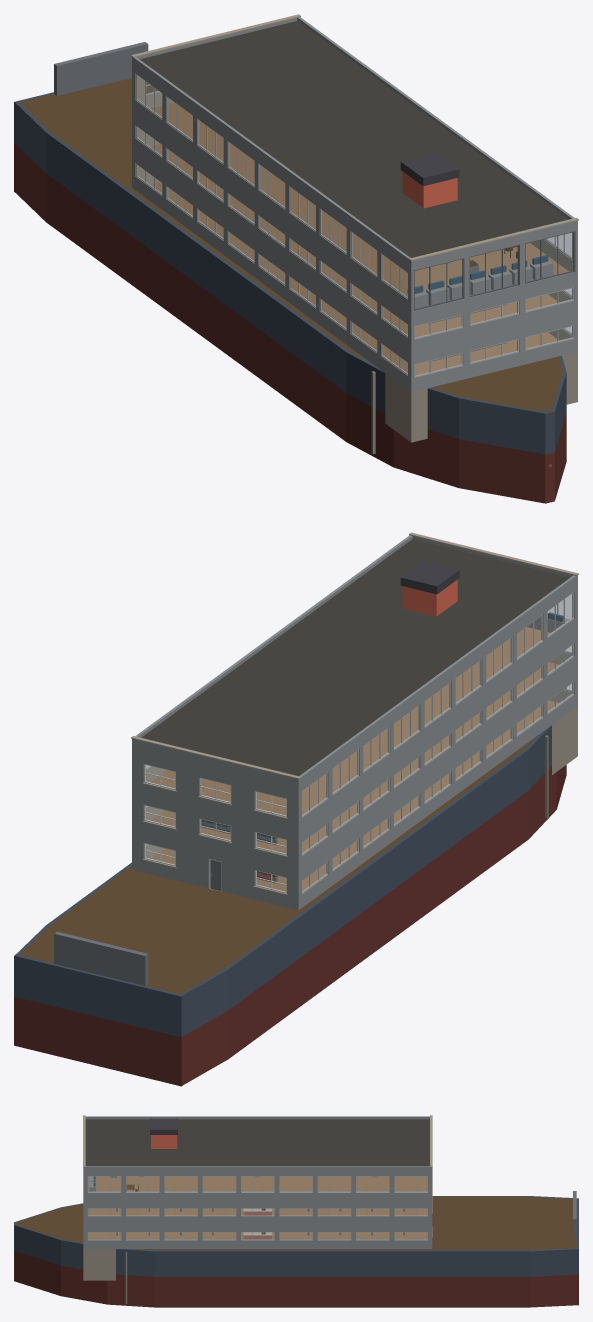
The model's file is ferry.glb.
The picture shows the model from 3 angles, top to bottom: view 1: azimuth 30°, elevation 25°; view 2: azimuth 150°, elevation 25°; view 3: azimuth 270°, elevation 25°; orthographic projection. The views are drawn at different scales.
Visible parts, largest first — view 1: LOD0, FURN; view 2: LOD0, FURN; view 3: LOD0, FURN.
Part boxes in pixels (x1=…): LOD0: x1=14, y1=14, x2=578, y2=503; FURN: x1=405, y1=246, x2=553, y2=361; LOD0: x1=14, y1=532, x2=578, y2=1086; FURN: x1=201, y1=612, x2=568, y2=883; LOD0: x1=14, y1=1115, x2=578, y2=1307; FURN: x1=89, y1=1176, x2=404, y2=1239.
Size of what is drawn, in the model's own units: 14 by 18.3 by 60.25.
